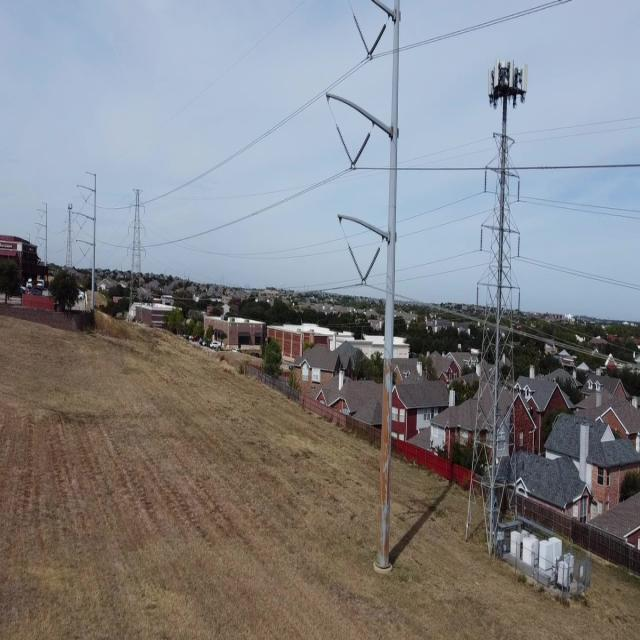杆塔: (454, 125, 537, 567), (125, 180, 147, 312), (61, 196, 78, 273)
正常绝缘子: (330, 116, 358, 177), (348, 7, 374, 67), (346, 128, 375, 180), (342, 236, 369, 290), (363, 17, 392, 67), (357, 241, 385, 291), (514, 280, 525, 324), (481, 161, 491, 205), (472, 278, 482, 321), (514, 171, 525, 210), (476, 223, 487, 257), (515, 228, 524, 265)
